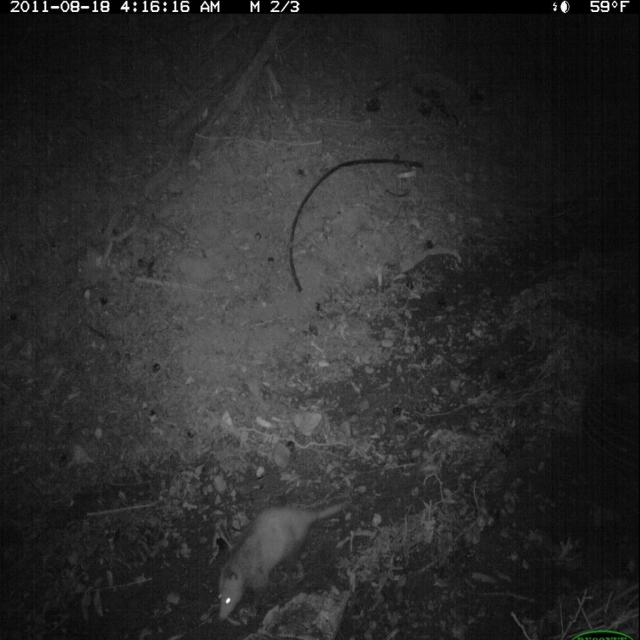opossum: (210, 493, 359, 629)
